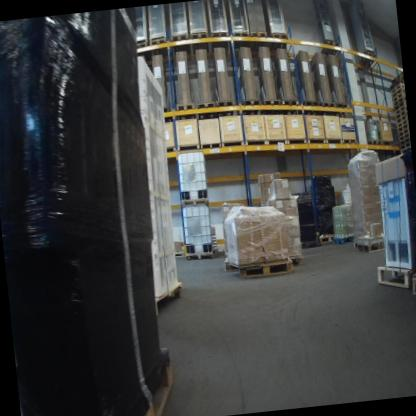pallet: (124, 344, 185, 416), (232, 248, 294, 281), (143, 278, 186, 317), (367, 258, 411, 291), (329, 224, 362, 252), (267, 24, 290, 62), (352, 233, 388, 256), (181, 246, 216, 268), (245, 24, 269, 56), (230, 25, 251, 59), (149, 34, 171, 63), (295, 230, 320, 255), (171, 31, 192, 60), (210, 27, 230, 57), (191, 25, 209, 58), (236, 93, 259, 118), (196, 99, 218, 125), (173, 97, 195, 122), (217, 97, 239, 122), (134, 38, 153, 64), (222, 254, 243, 277), (260, 95, 284, 115), (278, 95, 298, 116), (298, 96, 319, 116), (320, 35, 339, 57), (198, 140, 222, 157), (317, 97, 337, 117), (318, 227, 337, 246), (342, 133, 357, 154), (408, 266, 416, 302), (336, 98, 353, 114), (389, 82, 404, 95), (292, 245, 302, 262), (390, 87, 404, 98), (391, 95, 405, 106), (397, 127, 409, 139), (399, 139, 411, 151), (369, 138, 383, 148), (396, 117, 408, 128), (393, 104, 406, 114), (394, 108, 407, 118), (396, 123, 409, 133), (391, 92, 405, 101), (394, 100, 406, 110), (397, 131, 409, 141), (399, 145, 411, 155), (395, 115, 407, 123), (399, 136, 409, 145)
